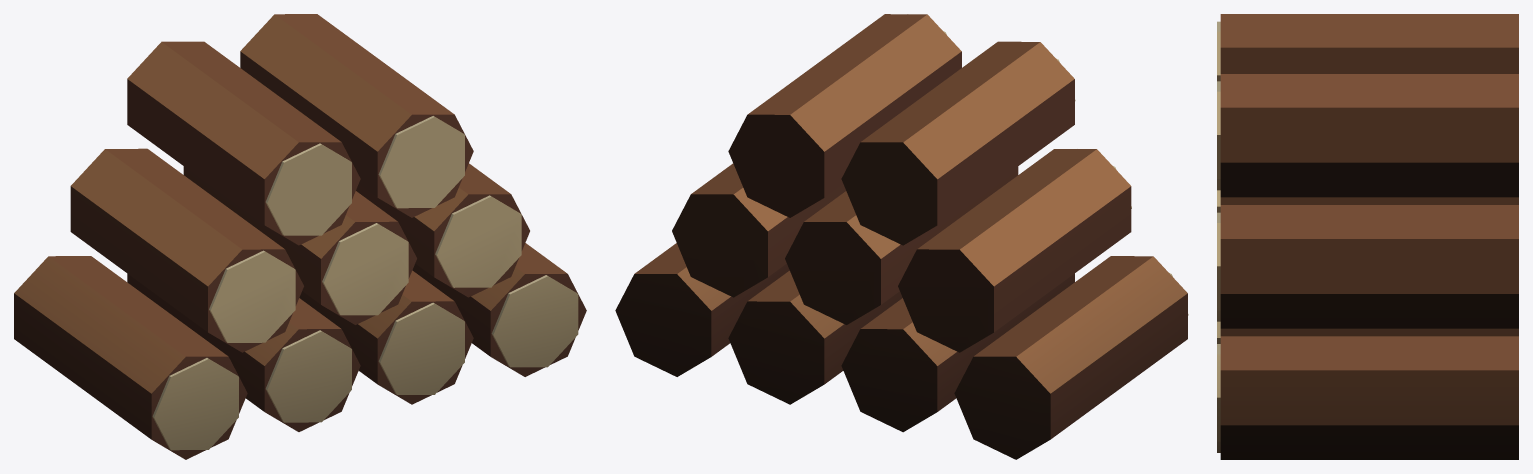
Rendered from log_pile.glb.
3 views of the same model, side by side, from view 1: azimuth 30°, elevation 25°; view 2: azimuth 150°, elevation 25°; view 3: azimuth 270°, elevation 25° (orthographic). The views are drawn at different scales.
Parts seen in each view (by area): view 1: log_pile; view 2: log_pile; view 3: log_pile.
Boxes of the visible parts, <box> form: log_pile: <box>14,14,586,459</box>; log_pile: <box>615,14,1188,459</box>; log_pile: <box>1217,14,1518,459</box>.
Bounding box in the file's own units: 0.7316 × 0.4657 × 0.405.
